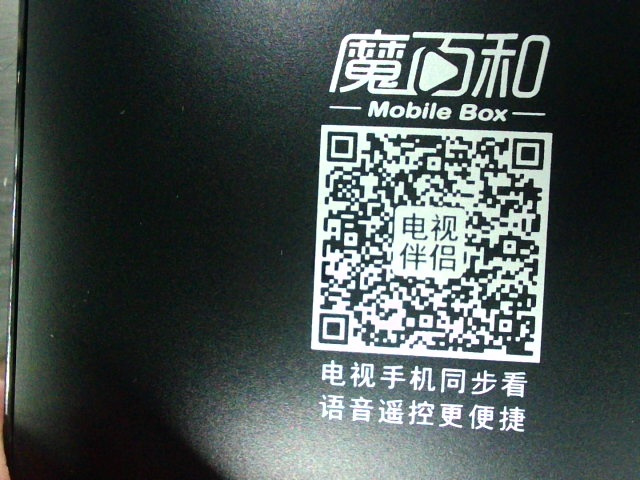AZ_MobileBox: (309, 23, 557, 435)
